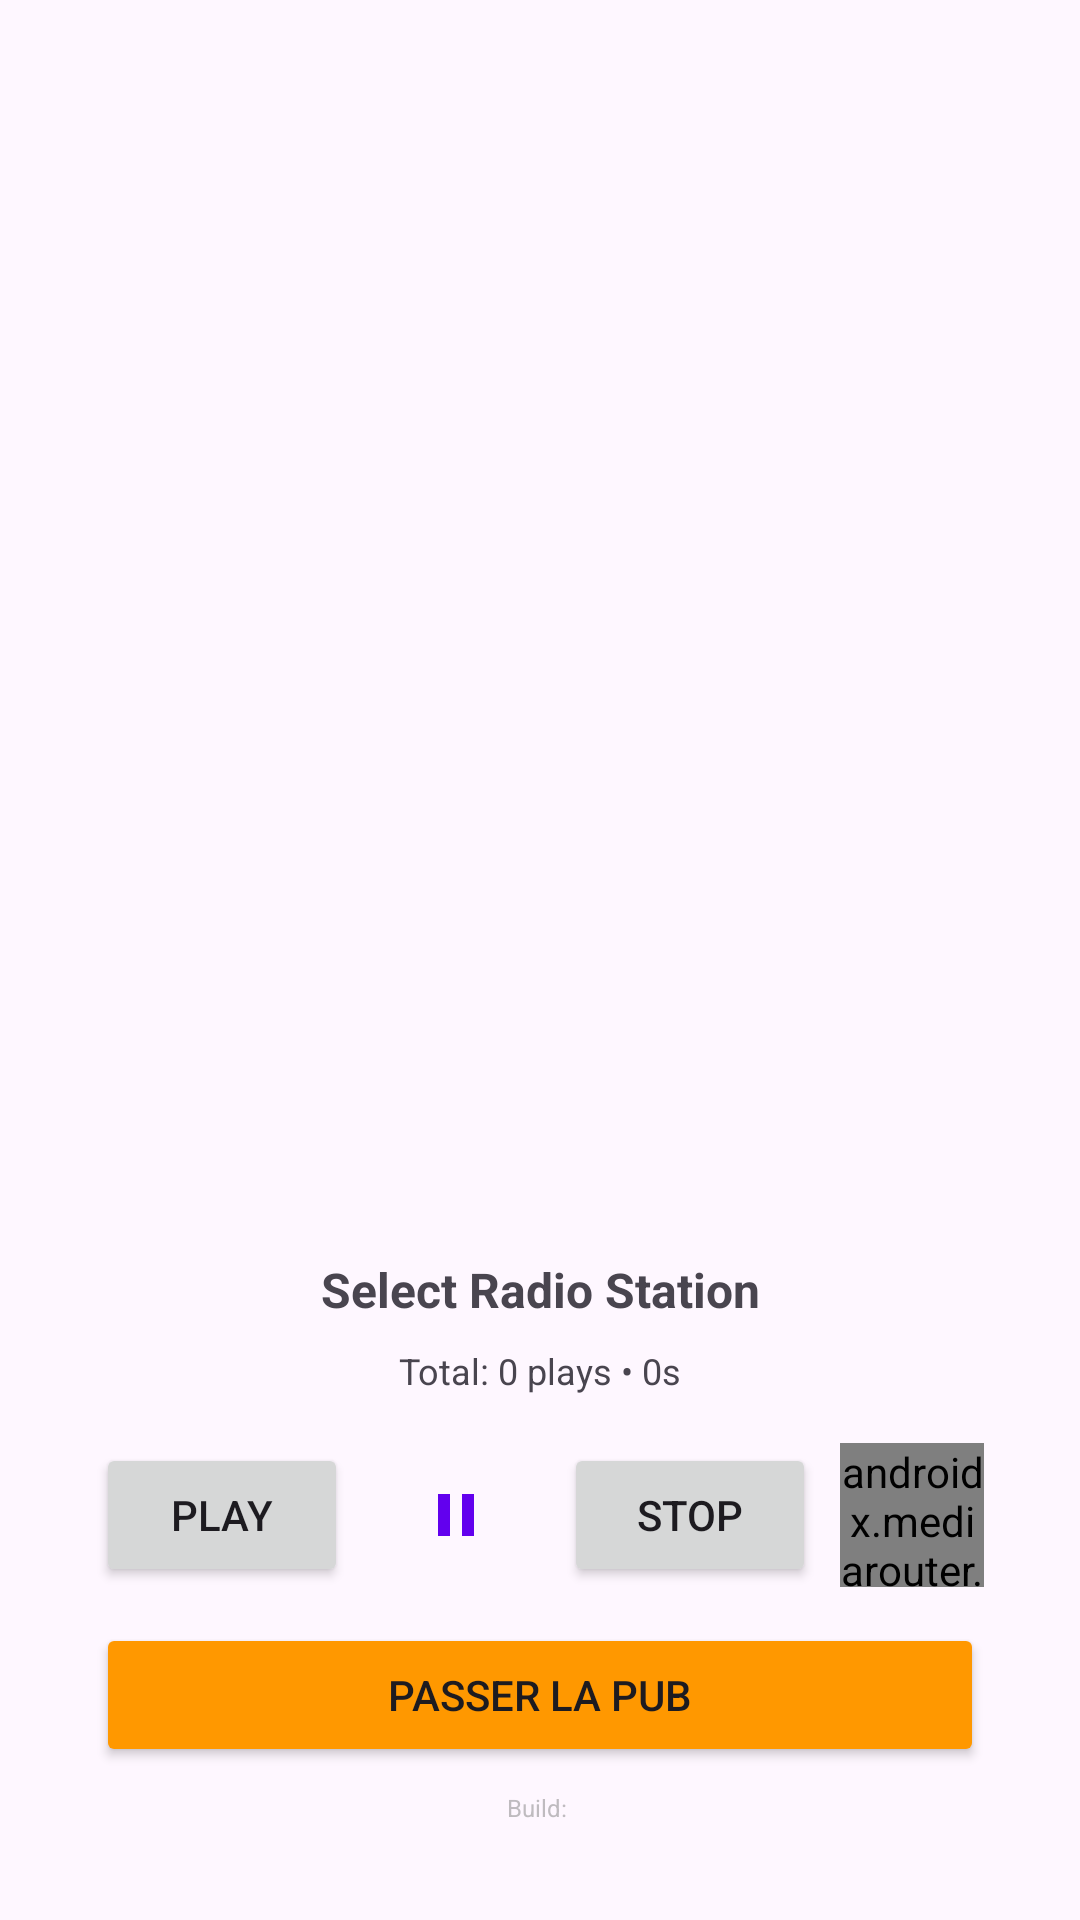

Icon bounding boxes for this 1080 x 1920 phone screenshot, format BBox(x1, y1, x2, y2):
Pause: BBox(438, 1494, 474, 1536)
